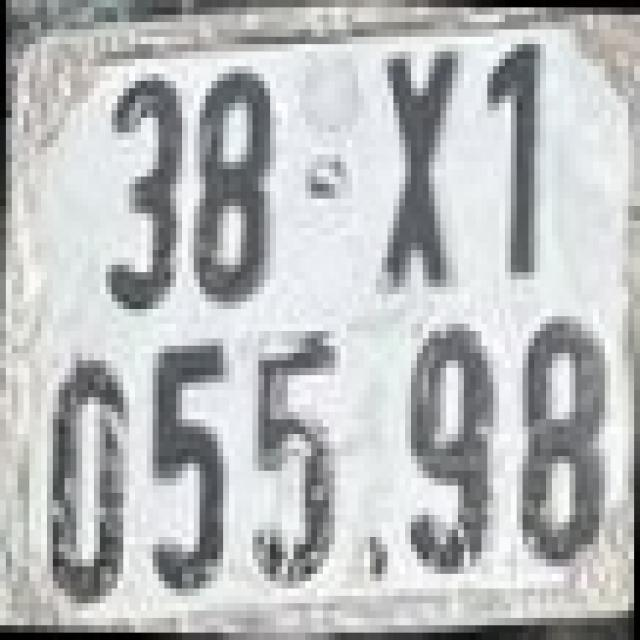0: (41, 353, 129, 596)
1: (481, 36, 552, 280)
3: (100, 66, 182, 309)
5: (247, 331, 341, 589), (147, 338, 229, 588)
8: (516, 308, 610, 566), (188, 66, 276, 302)
9: (399, 316, 499, 581)
X: (376, 44, 464, 294)
